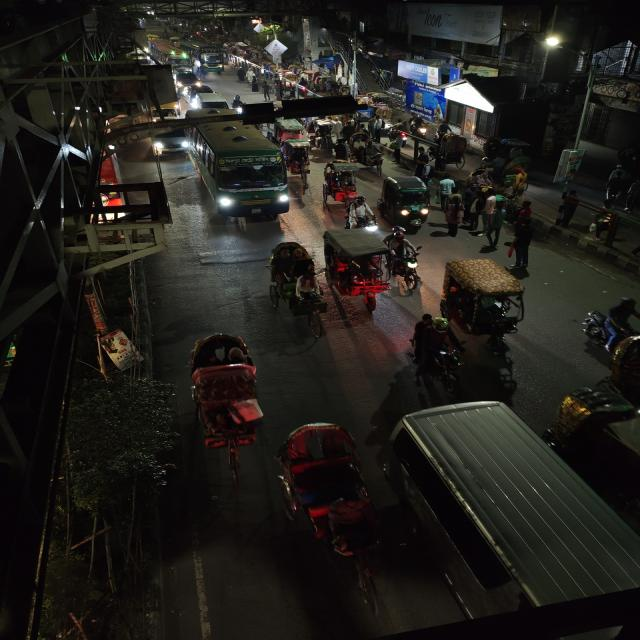bus: (192, 129, 296, 229), (194, 47, 226, 76), (167, 44, 194, 76)
car: (183, 85, 228, 111), (149, 134, 191, 160), (173, 74, 206, 92)
cng: (381, 176, 436, 233)
human_hauler: (152, 102, 184, 121)
motorcycle: (397, 311, 473, 392), (386, 218, 426, 302), (336, 198, 376, 232)
pedestrian: (507, 220, 537, 272), (443, 196, 470, 234), (464, 189, 487, 232), (489, 199, 504, 251), (436, 174, 456, 204), (415, 151, 434, 182), (334, 135, 351, 161), (246, 72, 259, 96), (261, 82, 273, 103), (238, 64, 246, 84)
rickshaw: (265, 418, 401, 598), (186, 335, 276, 489), (443, 253, 548, 351), (258, 230, 332, 333), (322, 218, 390, 312), (317, 160, 364, 212), (283, 138, 319, 191), (352, 133, 386, 178), (308, 119, 338, 155)
